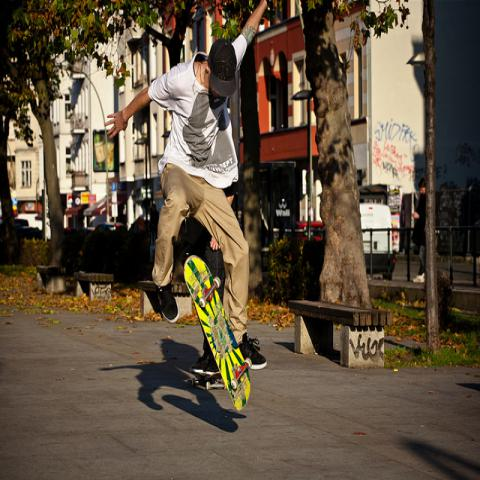car: (358, 186, 396, 284), (14, 218, 40, 240), (295, 221, 324, 240), (95, 222, 128, 232)
truck: (358, 203, 396, 282), (16, 214, 42, 230)
